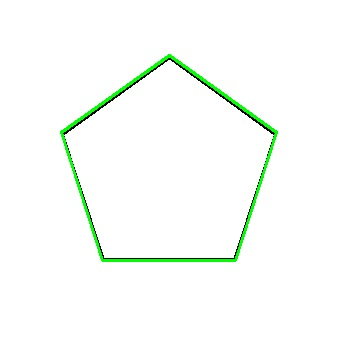line_segment: (61, 55, 277, 261)
